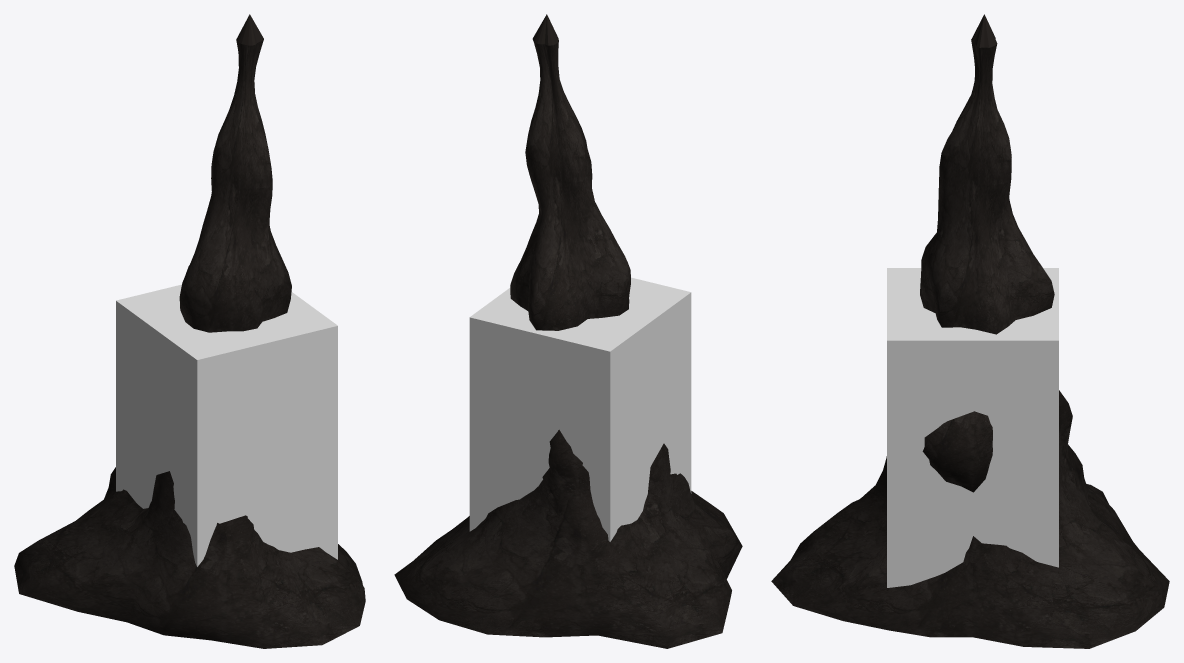
File: rock_spire_bare_16m_dead.glb
3 views of the same model, side by side, from view 1: azimuth 30°, elevation 25°; view 2: azimuth 150°, elevation 25°; view 3: azimuth 270°, elevation 25° (orthographic). The views are drawn at different scales.
Visible parts, largest first — view 1: rock_spire_bare_16m, col_block_spire; view 2: rock_spire_bare_16m, col_block_spire; view 3: rock_spire_bare_16m, col_block_spire.
Boxes of the visible parts, x1,y1,x2,y2 form: rock_spire_bare_16m: (14,14,365,648); col_block_spire: (116,284,337,566); rock_spire_bare_16m: (394,14,742,648); col_block_spire: (469,277,691,541); rock_spire_bare_16m: (771,14,1169,648); col_block_spire: (887,268,1058,587).
Size of the model in its own units: 9.79 by 16.8 by 10.43.
1 material, 1 textured.
